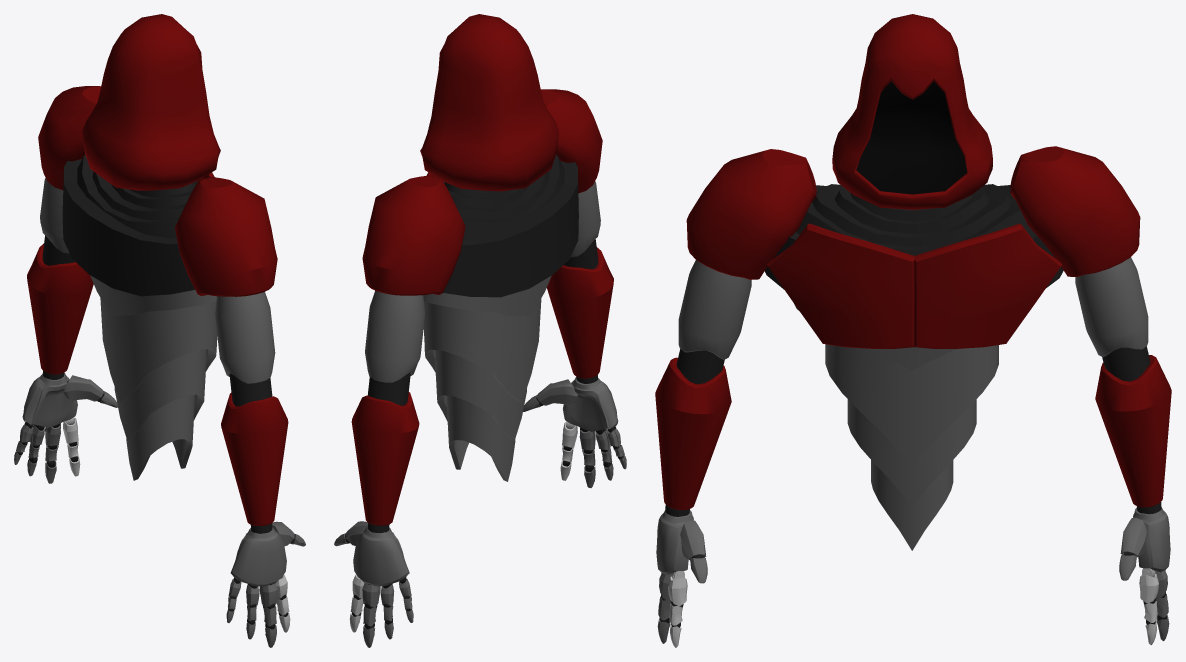
Rendered from Cataclysm Model.fbx.
The picture shows the model from 3 angles, left to right: view 1: azimuth 30°, elevation 25°; view 2: azimuth 150°, elevation 25°; view 3: azimuth 270°, elevation 25°; orthographic projection. The views are drawn at different scales.
Parts seen in each view (by area): view 1: polySurface2, pCylinder10 (×2), pCylinder8 (×2), pCylinder14, pCylinder6, pCylinder9 (×2), pasted__Palm_Piece (×2), pCylinder5, pCylinder4, pCylinder7, pCylinder3, pCylinder12 (×2) (+4 smaller); view 2: polySurface2, pCylinder10 (×2), pCylinder8 (×2), pCylinder14, pCylinder6, pCylinder9 (×2), pasted__Palm_Piece (×2), pCylinder5, pCylinder4, pCylinder7, pCylinder3, pCylinder12 (×2) (+3 smaller); view 3: pCylinder10 (×2), pCylinder8 (×2), polySurface2, pPlane1, pPlane3, pCylinder6, pCylinder9 (×2), polySurface1, pCylinder5, pCylinder2, pasted__Palm_Piece (×2), pCylinder4 (+6 smaller).
Boxes of the visible parts, x1,y1,x2,y2 form: polySurface2: [82, 14, 220, 190]; pCylinder10 (×2): [38, 86, 277, 296]; pCylinder8 (×2): [27, 243, 288, 525]; pCylinder14: [62, 158, 194, 296]; pCylinder6: [100, 298, 217, 402]; pCylinder9 (×2): [40, 178, 275, 383]; pasted__Palm_Piece (×2): [22, 373, 286, 586]; pCylinder5: [114, 349, 206, 440]; pCylinder4: [126, 394, 195, 480]; pCylinder7: [90, 275, 216, 315]; pCylinder3: [77, 154, 202, 238]; pCylinder12 (×2): [42, 235, 272, 406]; polySurface2: [420, 14, 558, 191]; pCylinder10 (×2): [362, 89, 602, 295]; pCylinder8 (×2): [351, 247, 613, 525]; pCylinder14: [443, 161, 578, 297]; pCylinder6: [423, 298, 541, 403]; pCylinder9 (×2): [365, 181, 600, 382]; pasted__Palm_Piece (×2): [353, 377, 618, 586]; pCylinder5: [434, 350, 526, 441]; pCylinder4: [446, 395, 515, 481]; pCylinder7: [423, 276, 551, 316]; pCylinder3: [462, 154, 564, 238]; pCylinder12 (×2): [367, 239, 598, 405]; pCylinder10 (×2): [686, 146, 1140, 279]; pCylinder8 (×2): [655, 355, 1171, 510]; polySurface2: [832, 14, 992, 209]; pPlane1: [914, 223, 1062, 348]; pPlane3: [767, 223, 914, 348]; pCylinder6: [825, 344, 998, 465]; pCylinder9 (×2): [678, 257, 1148, 359]; polySurface1: [856, 81, 967, 194]; pCylinder5: [847, 399, 976, 506]; pCylinder2: [812, 184, 1012, 247]; pasted__Palm_Piece (×2): [656, 507, 1170, 574]; pCylinder4: [871, 460, 953, 550].
Size of the model in its own units: 2 by 7.83 by 5.89.
